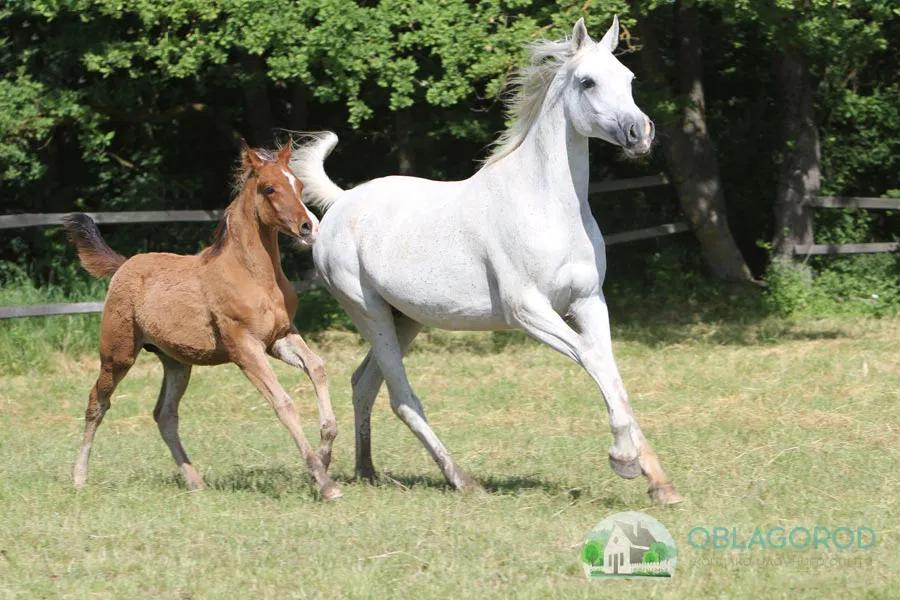horse: (284, 13, 685, 508), (59, 131, 344, 502)
